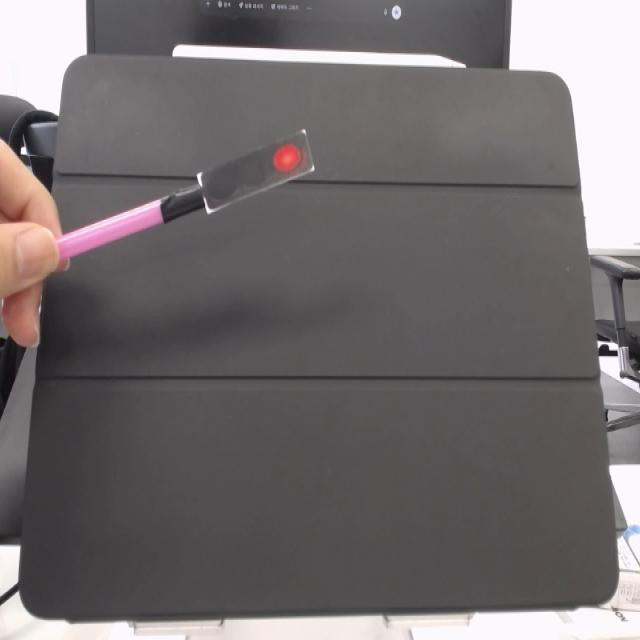traffic light: (197, 132, 315, 215)
